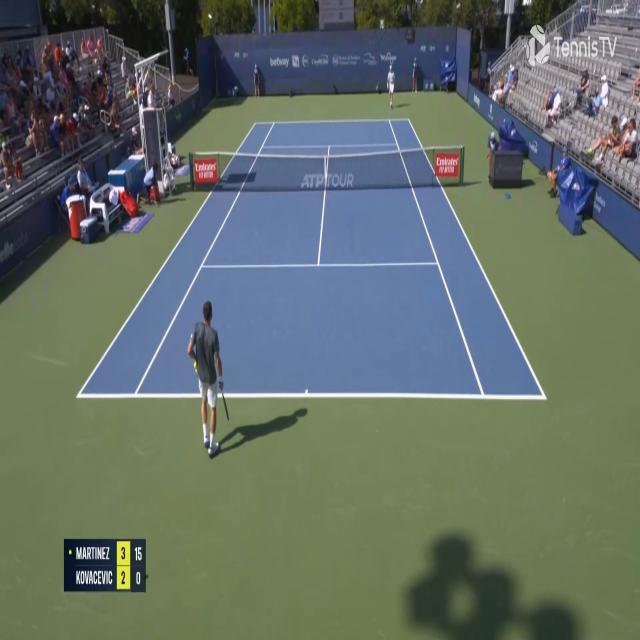tennis-player: (188, 299, 234, 462), (386, 60, 396, 109)
